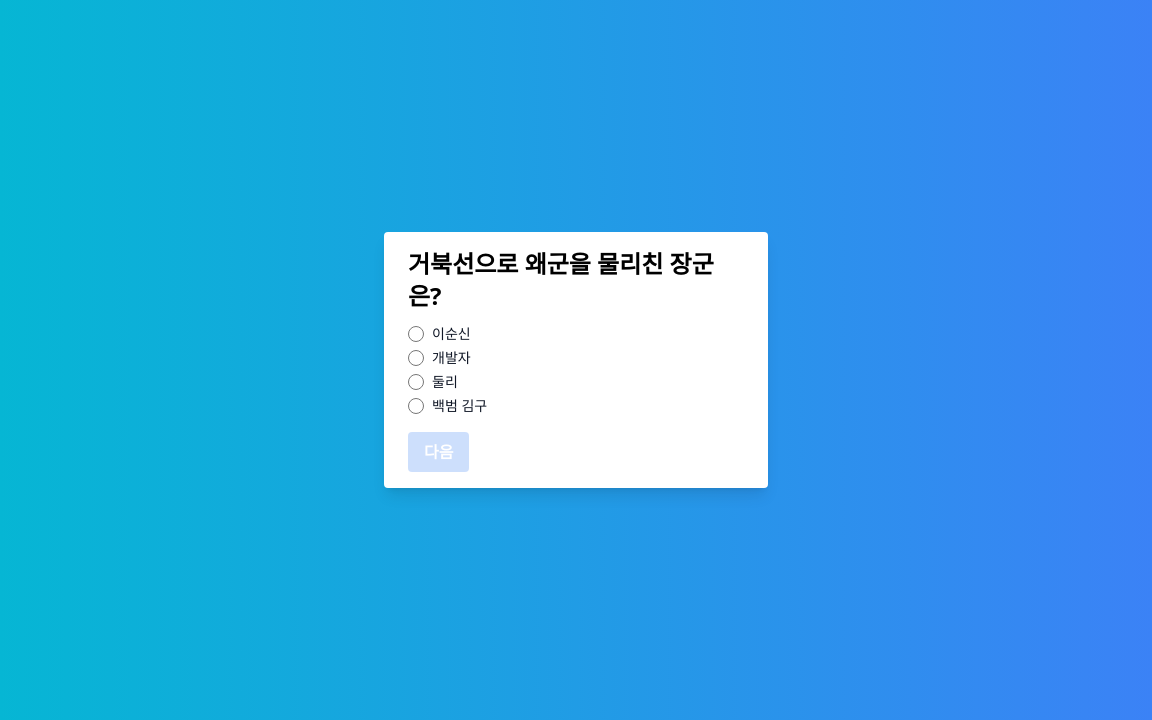
Test: Quiz › 다음 퀴즈가 있으면 현재 퀴즈 풀이 후 다음 퀴즈 노출
Expected: the text "거북선으로 왜군을 물리친 장군은?" is shown, [408,248,744,320]
Click the text "둘리". click: (445, 382)
box: [432,372,458,392]
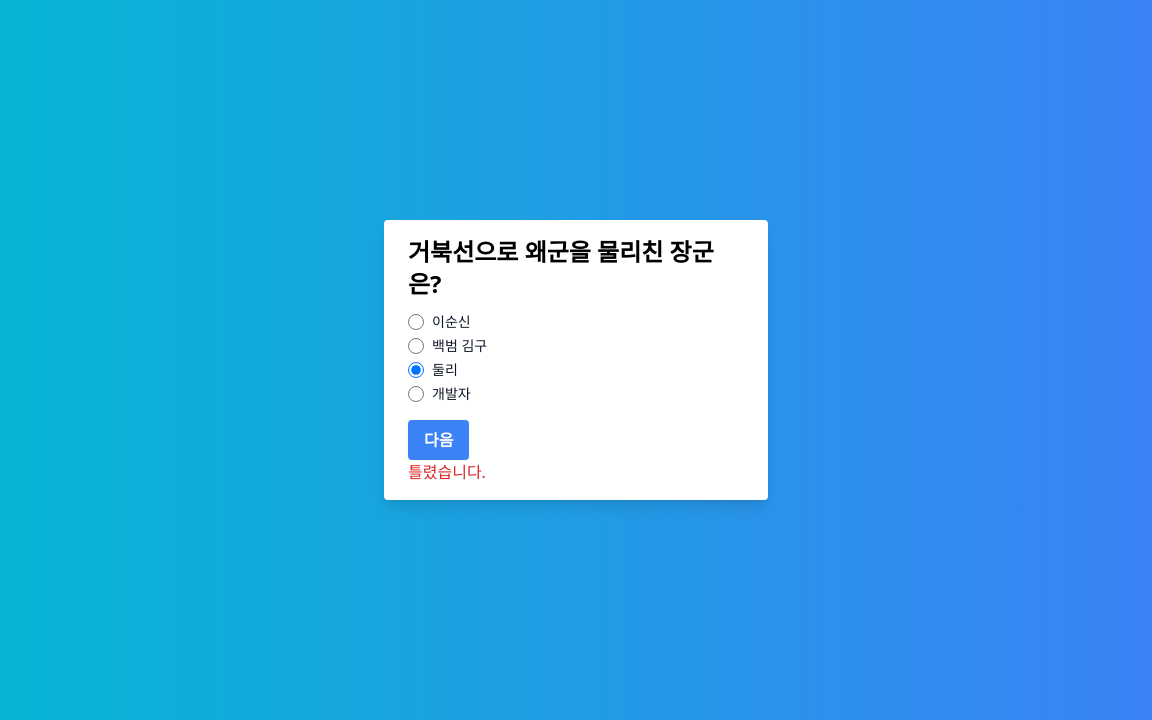
Click the button "다음". click: (439, 440)
box: [408,420,470,460]
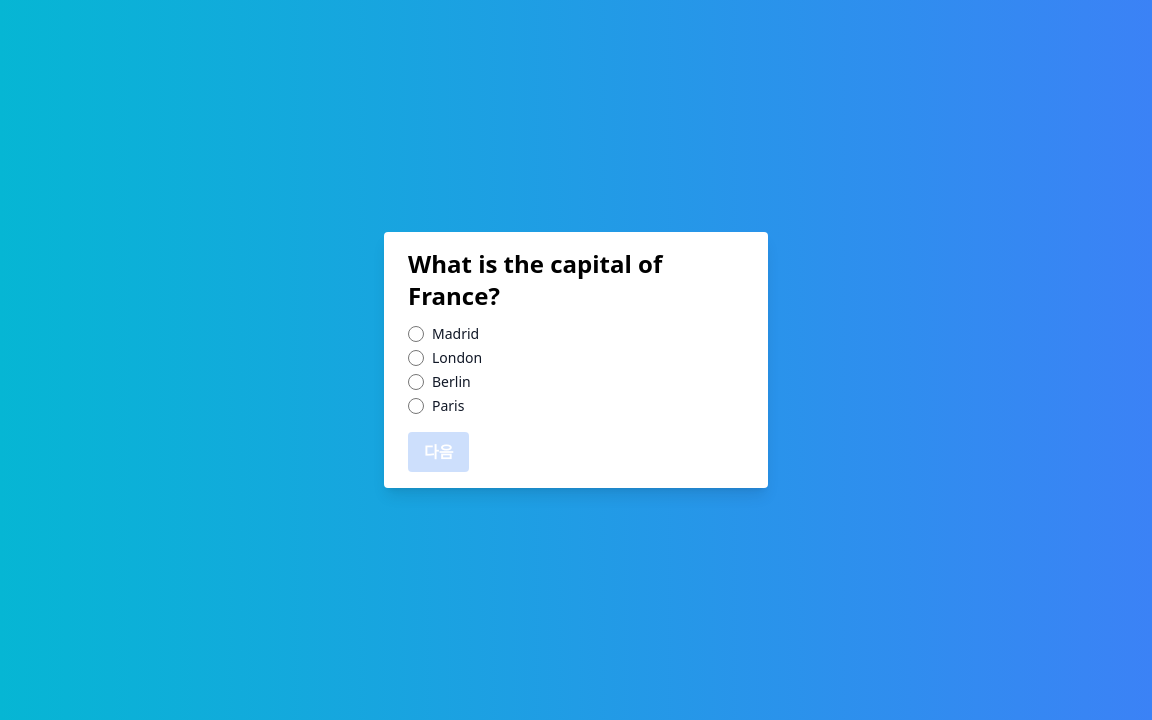
Expected: the text "What is the capital of France?" is shown, [408,247,662,312]
